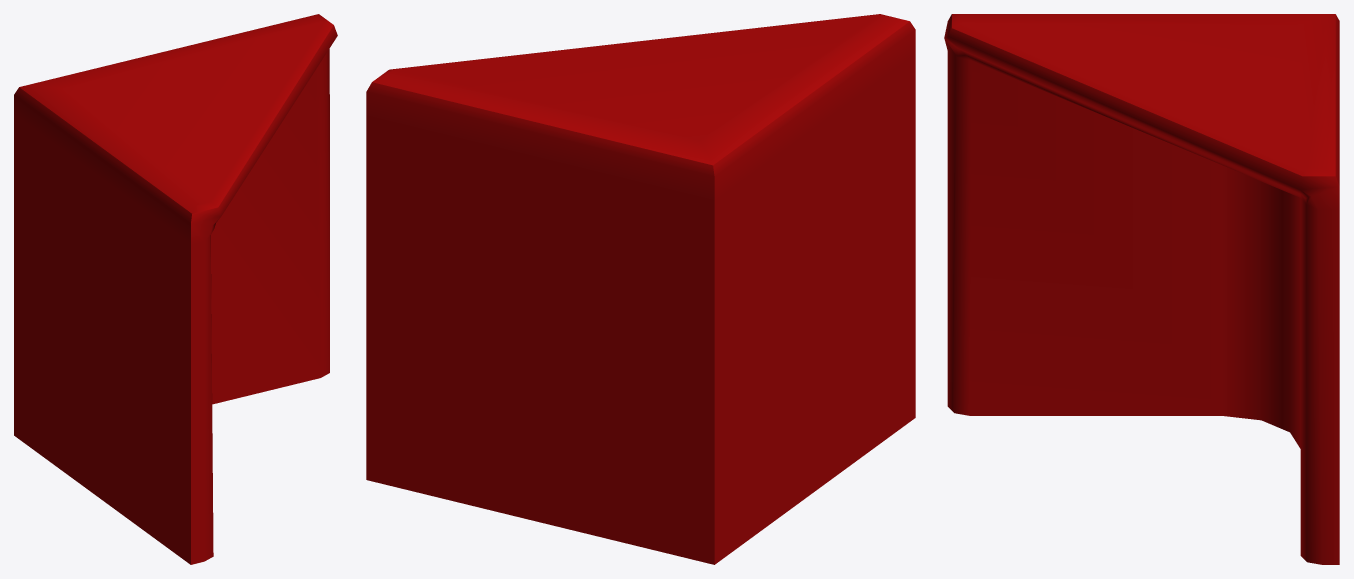
Rendered from CornerTable_low.fbx.
3 renders of one model, left to right at view 1: azimuth 30°, elevation 25°; view 2: azimuth 150°, elevation 25°; view 3: azimuth 270°, elevation 25°, orthographic. The views are drawn at different scales.
Parts seen in each view (by area): view 1: CornerTable_low; view 2: CornerTable_low; view 3: CornerTable_low.
Part boxes in pixels (x1=…): CornerTable_low: x1=14, y1=14, x2=337, y2=564; CornerTable_low: x1=366, y1=14, x2=915, y2=564; CornerTable_low: x1=944, y1=14, x2=1339, y2=564.
Bounding box in the file's own units: 101 × 110 × 101.
